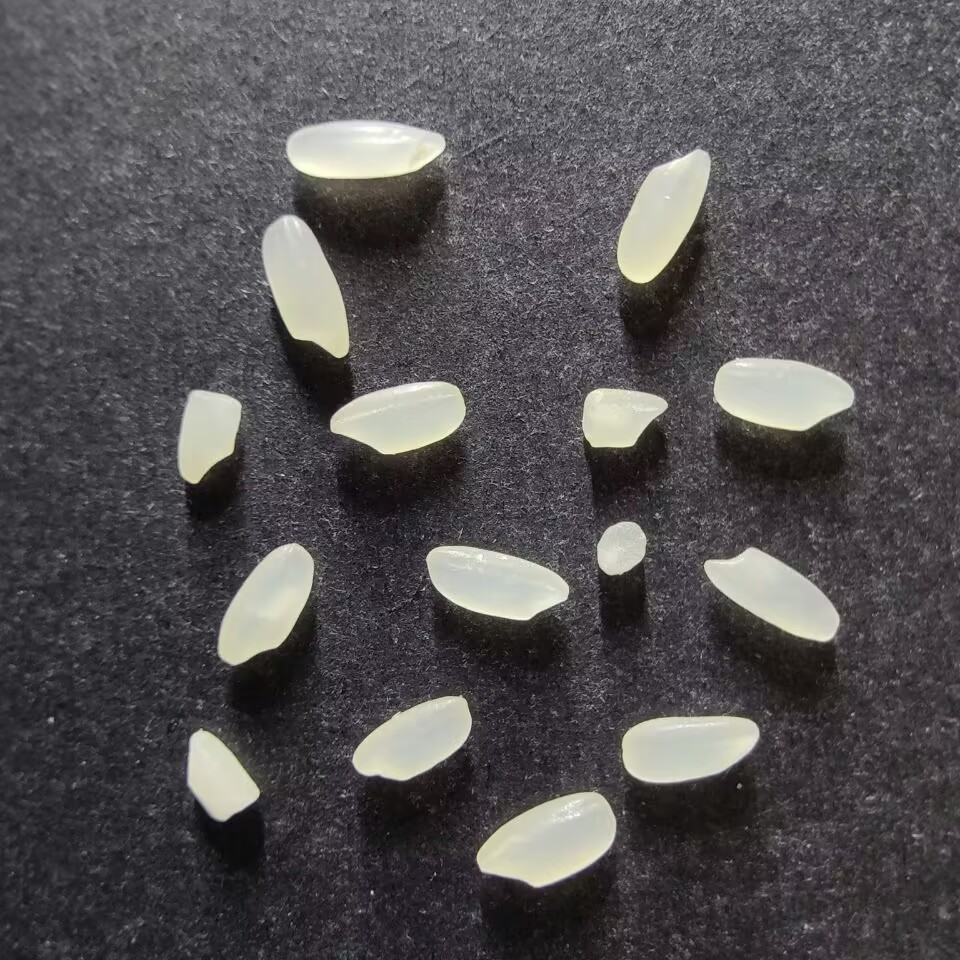broken: (185, 728, 261, 824), (176, 389, 242, 483), (580, 388, 668, 449), (596, 519, 646, 578)
rice: (474, 790, 617, 888), (702, 546, 841, 643), (615, 147, 712, 284), (261, 214, 349, 360), (216, 543, 314, 666), (425, 544, 568, 621), (350, 693, 472, 782), (713, 357, 854, 431), (328, 381, 466, 455), (620, 714, 759, 784), (285, 120, 445, 179)
